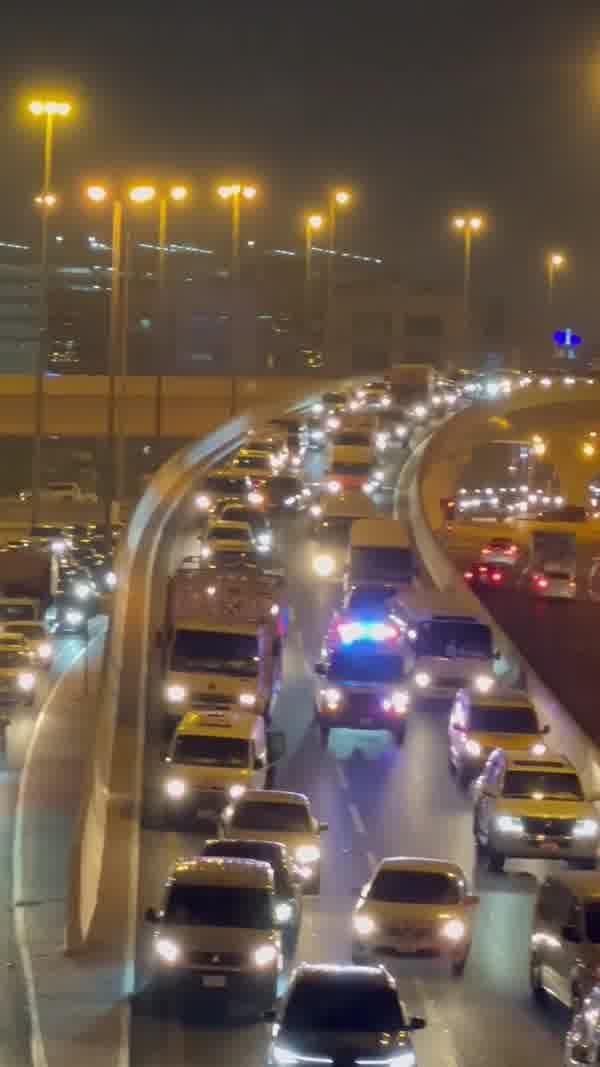AMBULANCE: (306, 609, 413, 749)
